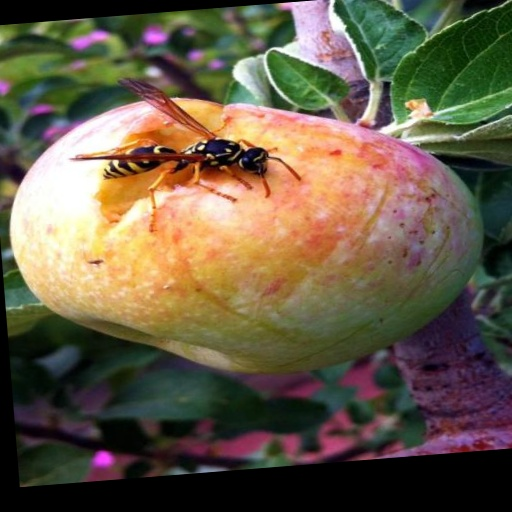fruit: (11, 100, 481, 373)
